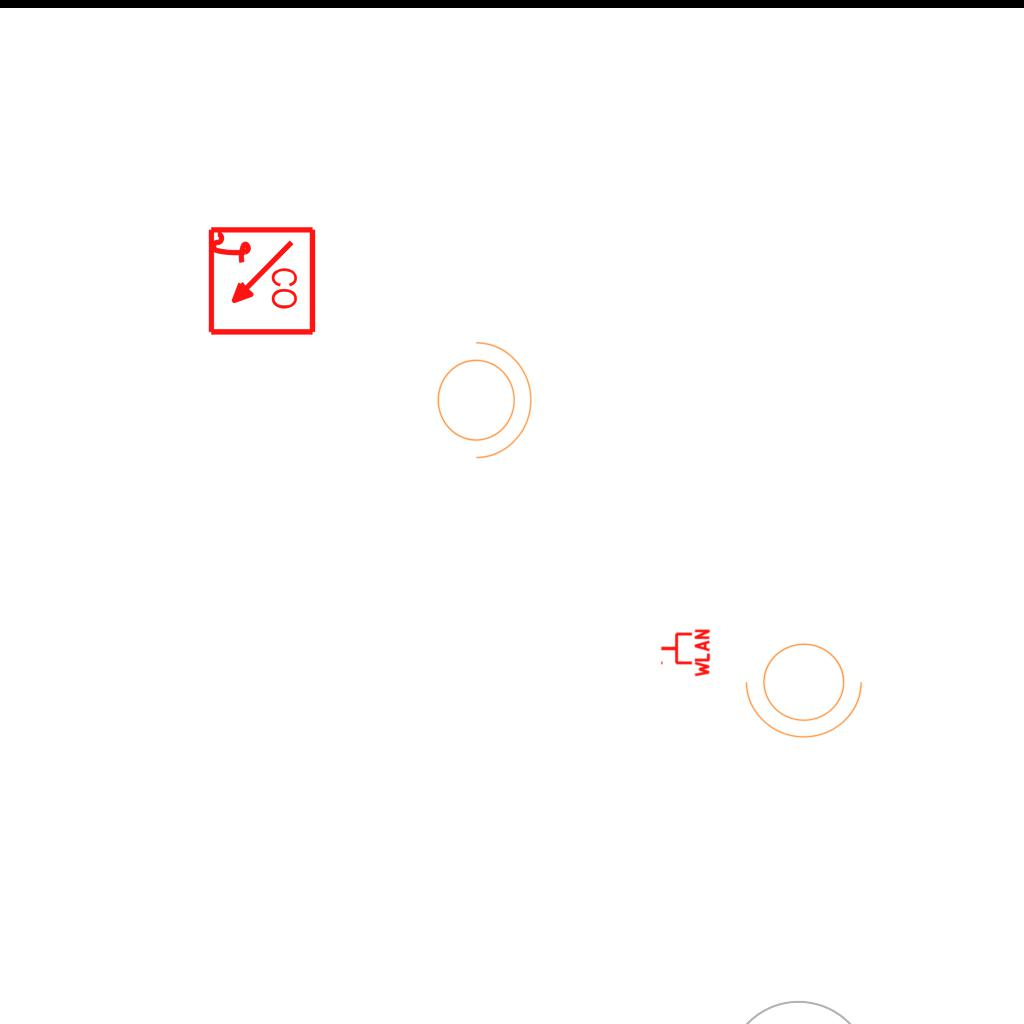ROA_Rauchmelder_optisch_mit_Signalgeber_(Sockelsirene): (204, 225, 317, 338)
Scheinwerfer_fuer_Alarmbeleuchtung: (741, 631, 873, 743), (425, 331, 537, 463)
WLAN: (659, 627, 711, 679)
